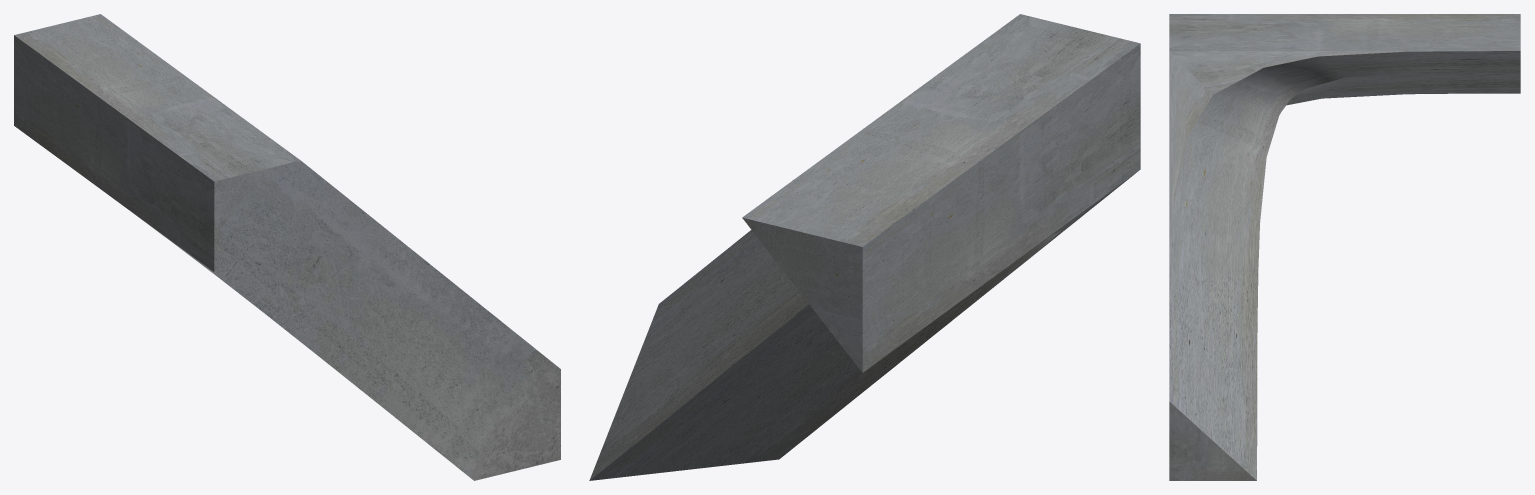
Rendered from module_G1.fbx.
The picture shows the model from 3 angles, left to right: view 1: azimuth 30°, elevation 25°; view 2: azimuth 150°, elevation 25°; view 3: azimuth 270°, elevation 25°; orthographic projection. The views are drawn at different scales.
Parts seen in each view (by area): view 1: modules; view 2: modules; view 3: modules.
Part boxes in pixels (x1=…): modules: x1=14, y1=14, x2=560, y2=480; modules: x1=589, y1=14, x2=1140, y2=480; modules: x1=1169, y1=14, x2=1520, y2=480.
Size of the model in its own units: 1000 by 1000 by 1000.
1 material, 1 textured.
